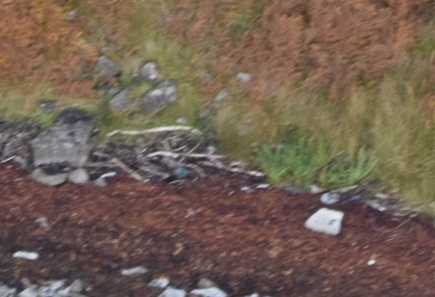cuboid: (303, 204, 349, 239)
scattered_barrel: (1, 158, 198, 275)
